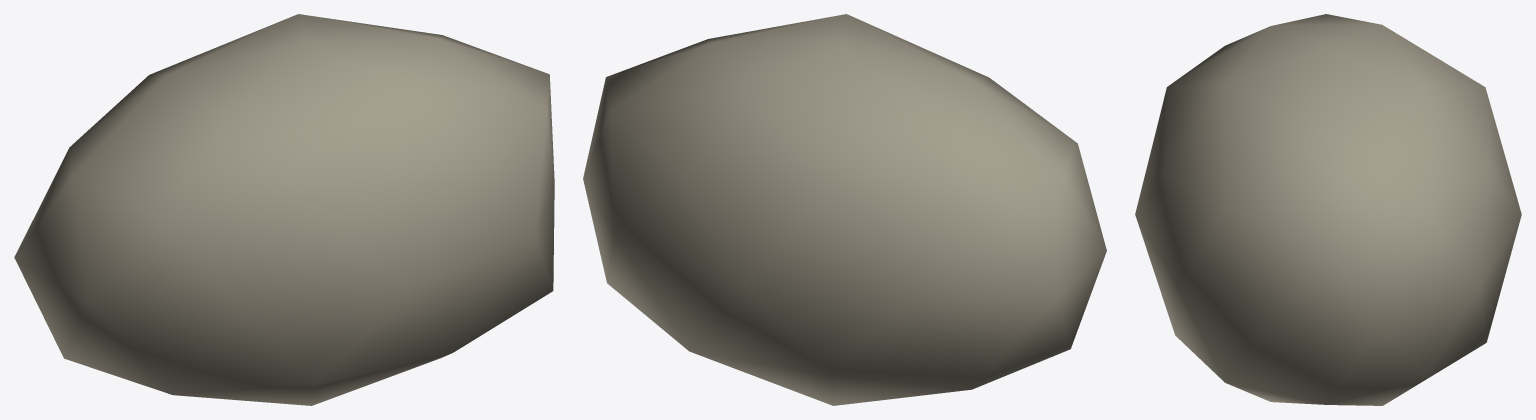
The model's file is SM_Env_Rock_02.fbx.
3 views of the same model, side by side, from view 1: azimuth 30°, elevation 25°; view 2: azimuth 150°, elevation 25°; view 3: azimuth 270°, elevation 25° (orthographic). The views are drawn at different scales.
Parts seen in each view (by area): view 1: Rock.001; view 2: Rock.001; view 3: Rock.001.
Part boxes in pixels (x1,y1,x2,y2): Rock.001: (14, 14, 554, 405); Rock.001: (583, 14, 1106, 405); Rock.001: (1135, 14, 1521, 405).
Size of what is drawn, in the model's own units: 90.51 by 63.36 by 60.66.
